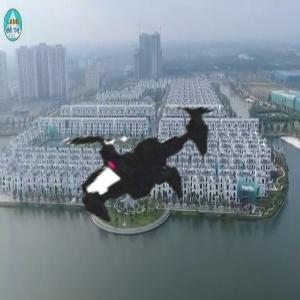drone: (20, 31, 262, 273)
